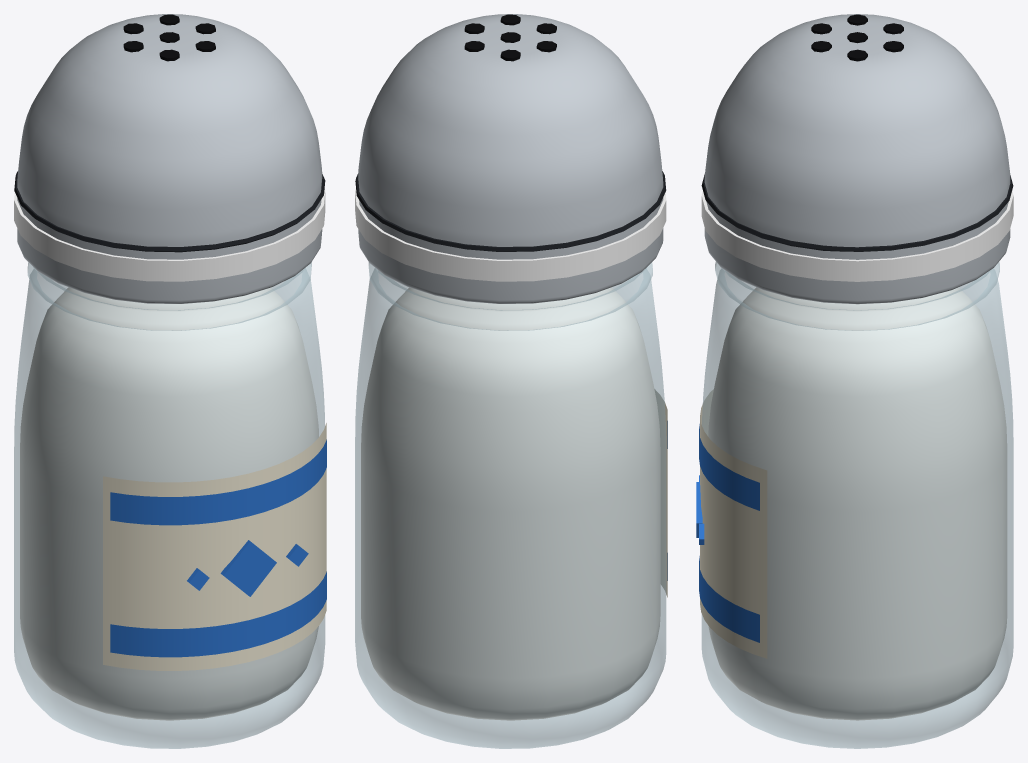
File: salt_shaker.glb
3 views of the same model, side by side, from view 1: azimuth 30°, elevation 25°; view 2: azimuth 150°, elevation 25°; view 3: azimuth 270°, elevation 25° (orthographic).
Visible parts, largest first — view 1: SaltShaker; view 2: SaltShaker; view 3: SaltShaker.
Boxes of the visible parts, x1,y1,x2,y2 form: SaltShaker: [14, 14, 326, 748]; SaltShaker: [355, 14, 667, 748]; SaltShaker: [696, 14, 1013, 748].
Size of the model in its own units: 3 by 7.03 by 3.05.
